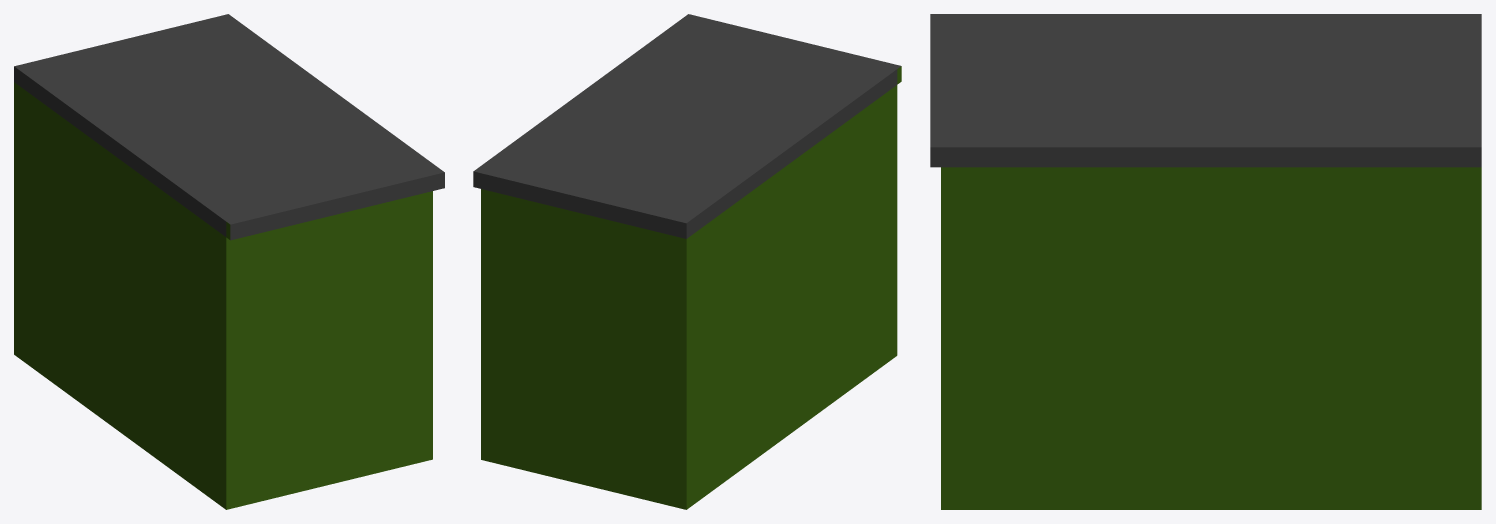
The model's file is Workbench.glb.
3 views of the same model, side by side, from view 1: azimuth 30°, elevation 25°; view 2: azimuth 150°, elevation 25°; view 3: azimuth 270°, elevation 25° (orthographic). The views are drawn at different scales.
Parts seen in each view (by area): view 1: Cube; view 2: Cube; view 3: Cube.
Boxes of the visible parts, x1,y1,x2,y2 form: Cube: (14,14,444,509); Cube: (473,14,901,509); Cube: (930,14,1481,509).
Size of the model in its own units: 0.9335 by 1.2 by 1.63.
